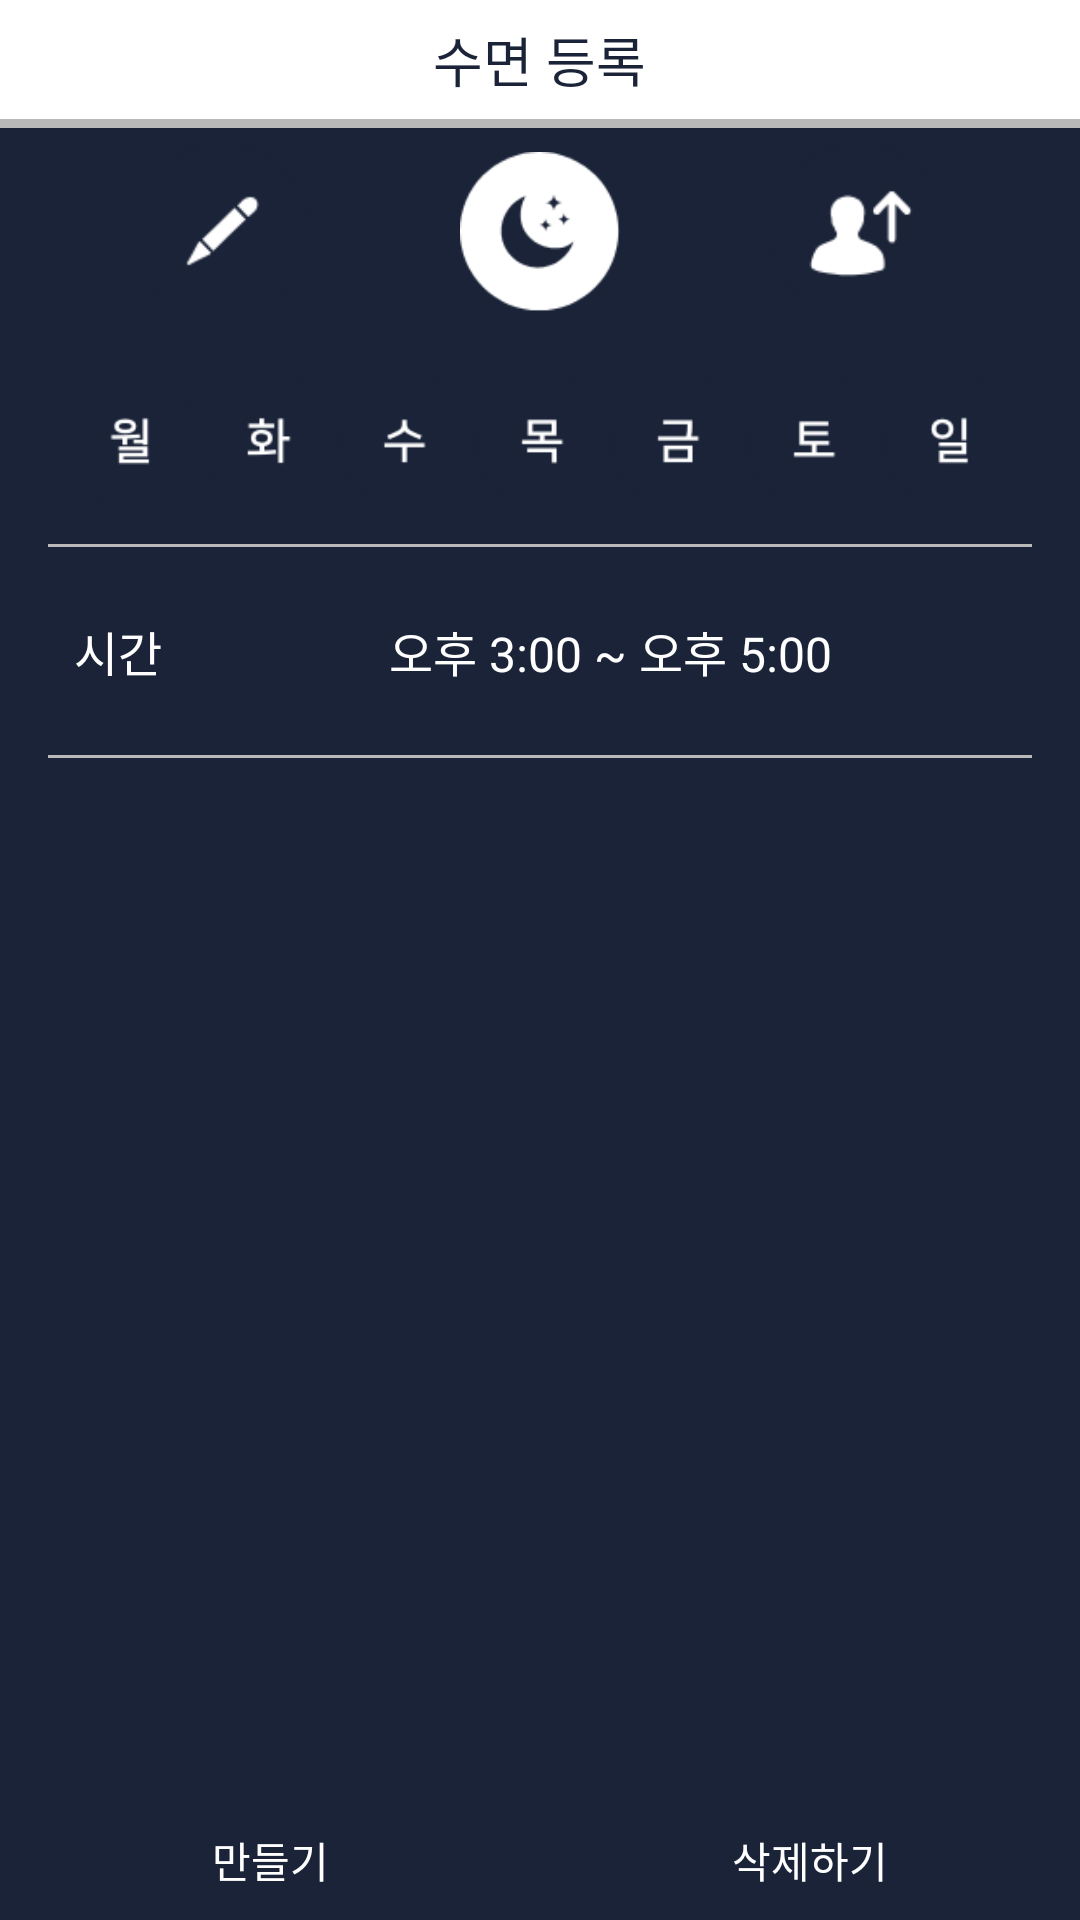

Icon click points for this 1080x1920 phone screenshot, format [x,y]:
sleep on: [539,231]
